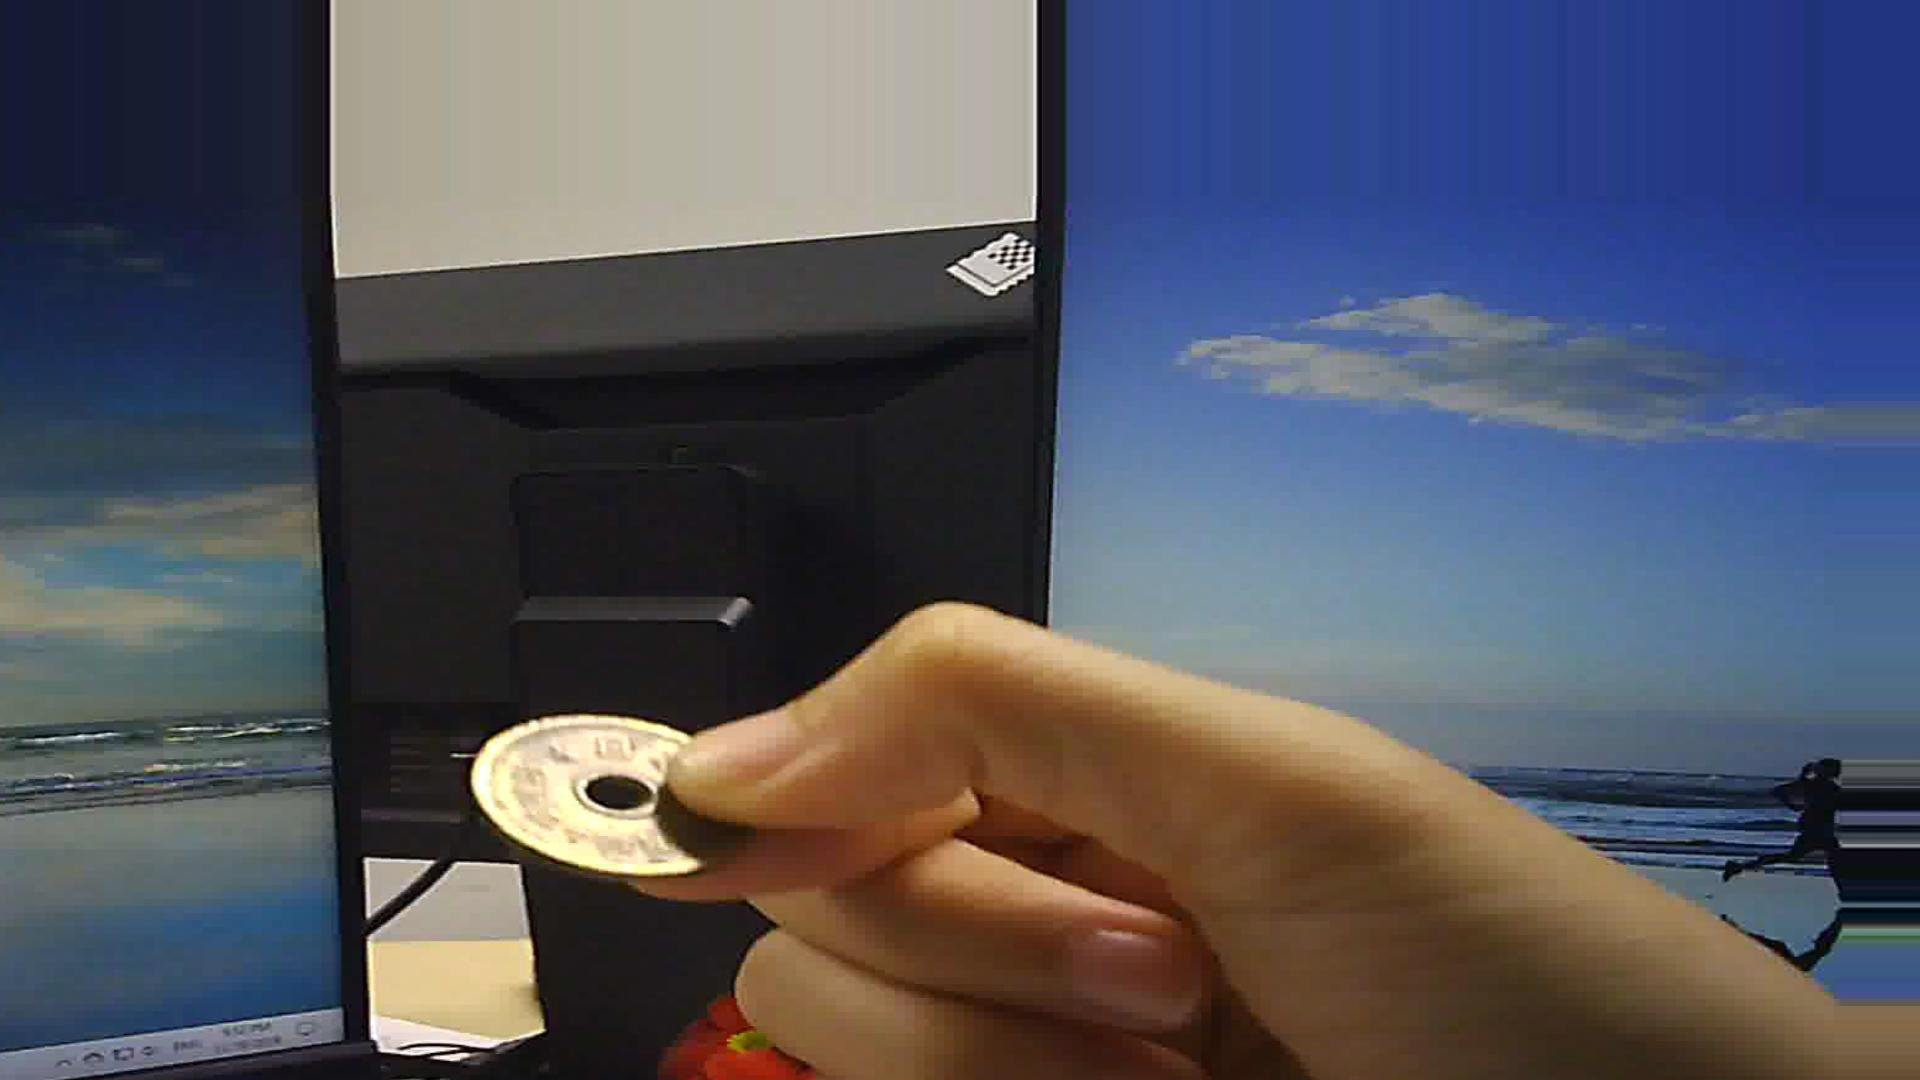5 Yen: (471, 709, 745, 876)
